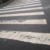zebra: (1, 1, 49, 45)
